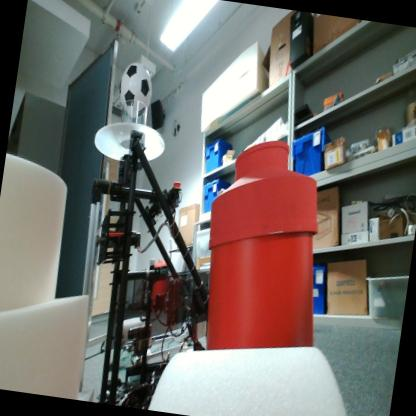ball: (116, 62, 156, 118)
